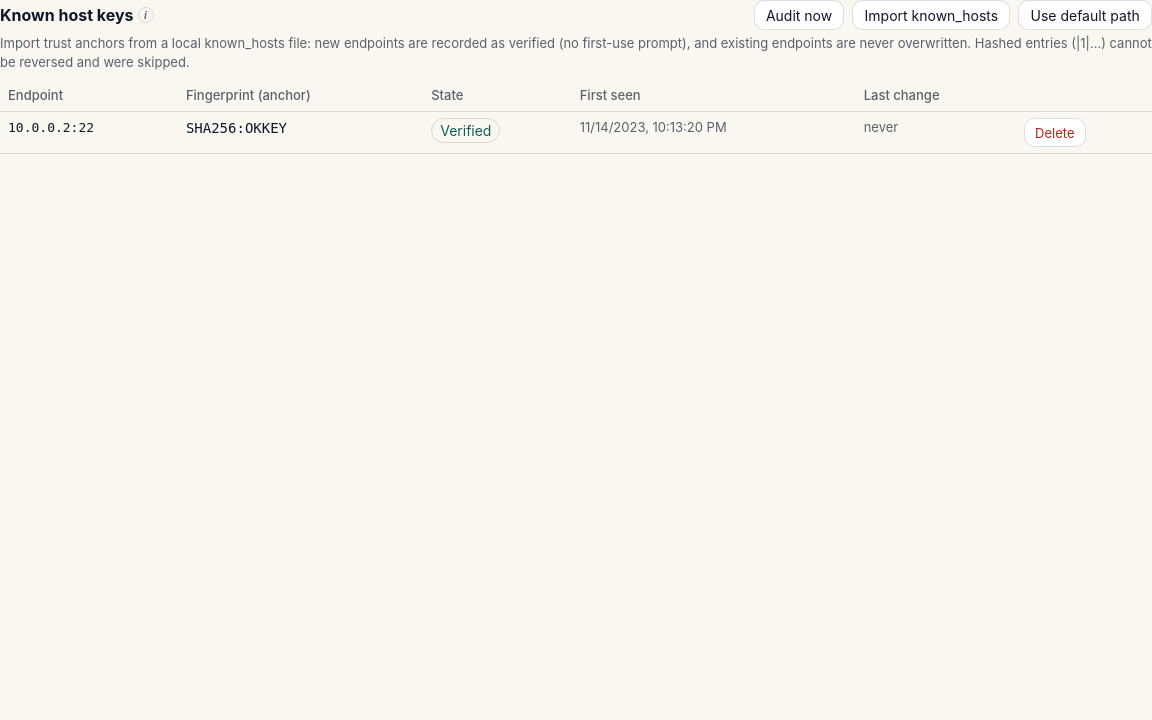
KnownHostsManager › 删除确认框可取消（不发起任何删除调用）
What coordinates should you click on to do the following:
click the button with test id "kh-delete-10.0.0.2:22"
I would click on:
 (1055, 133)
Its box is 1024,118 -> 1086,147.
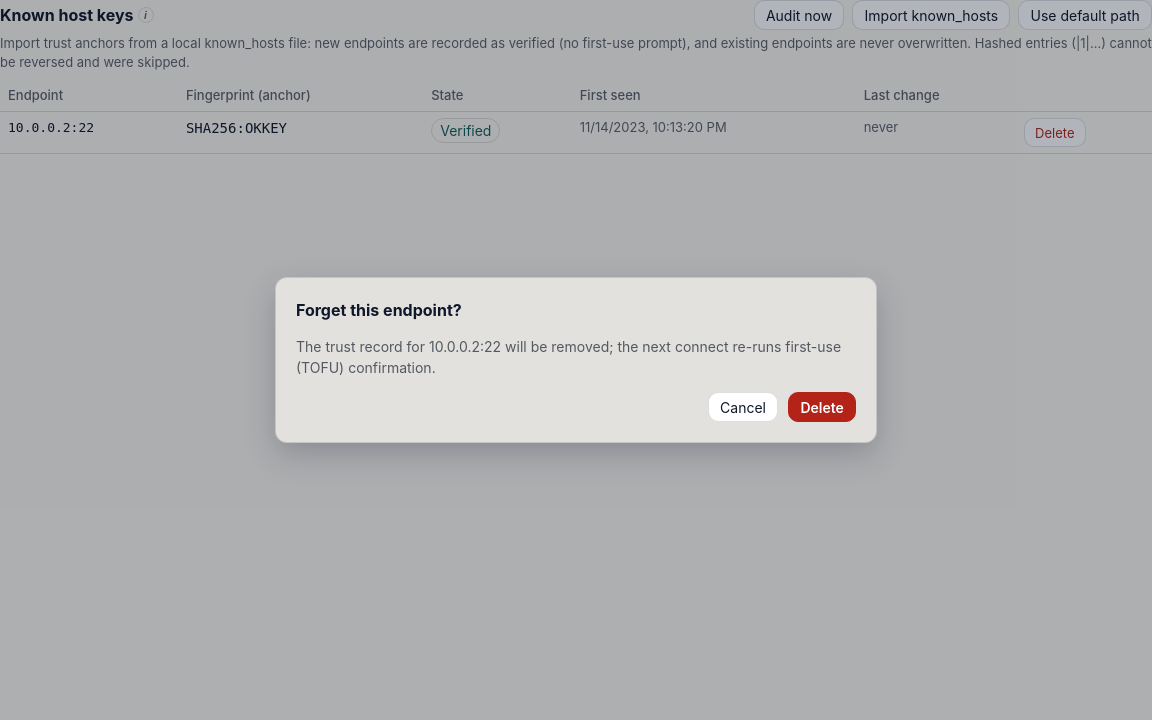
What coordinates should you click on to do the following:
click the button with test id "kh-delete-cancel"
I would click on:
 (743, 407)
Its box is 708,392 -> 778,422.
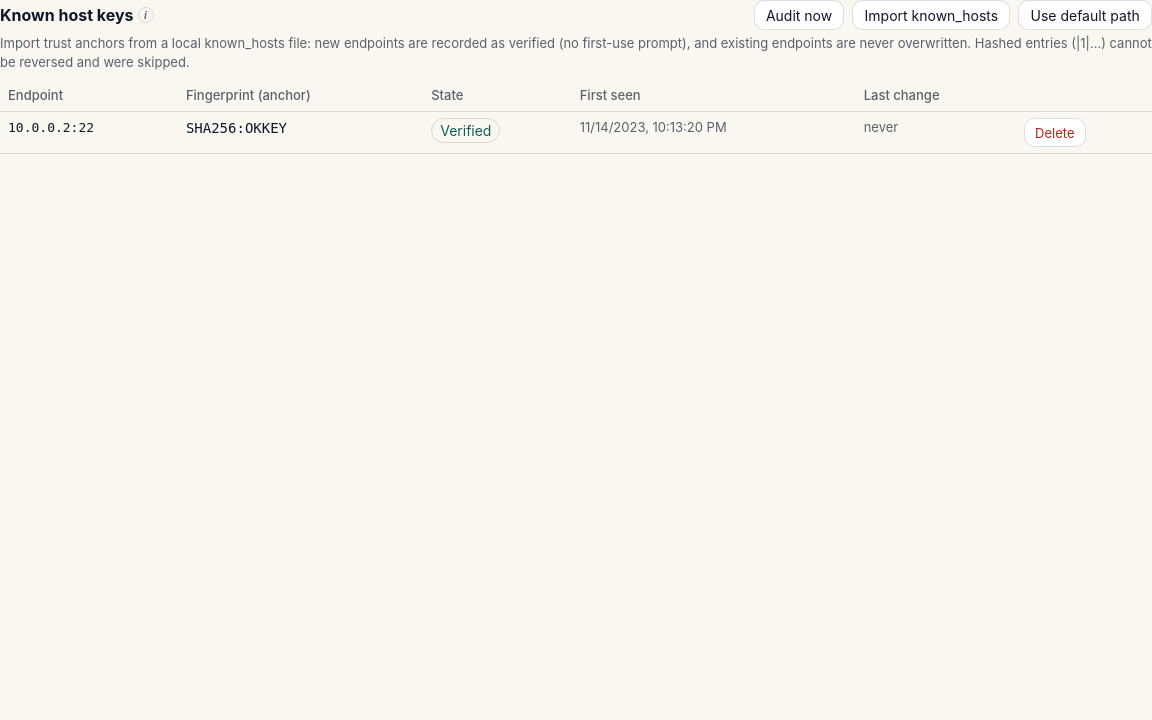
Expected: the element with test id "kh-delete-dialog" is gone
